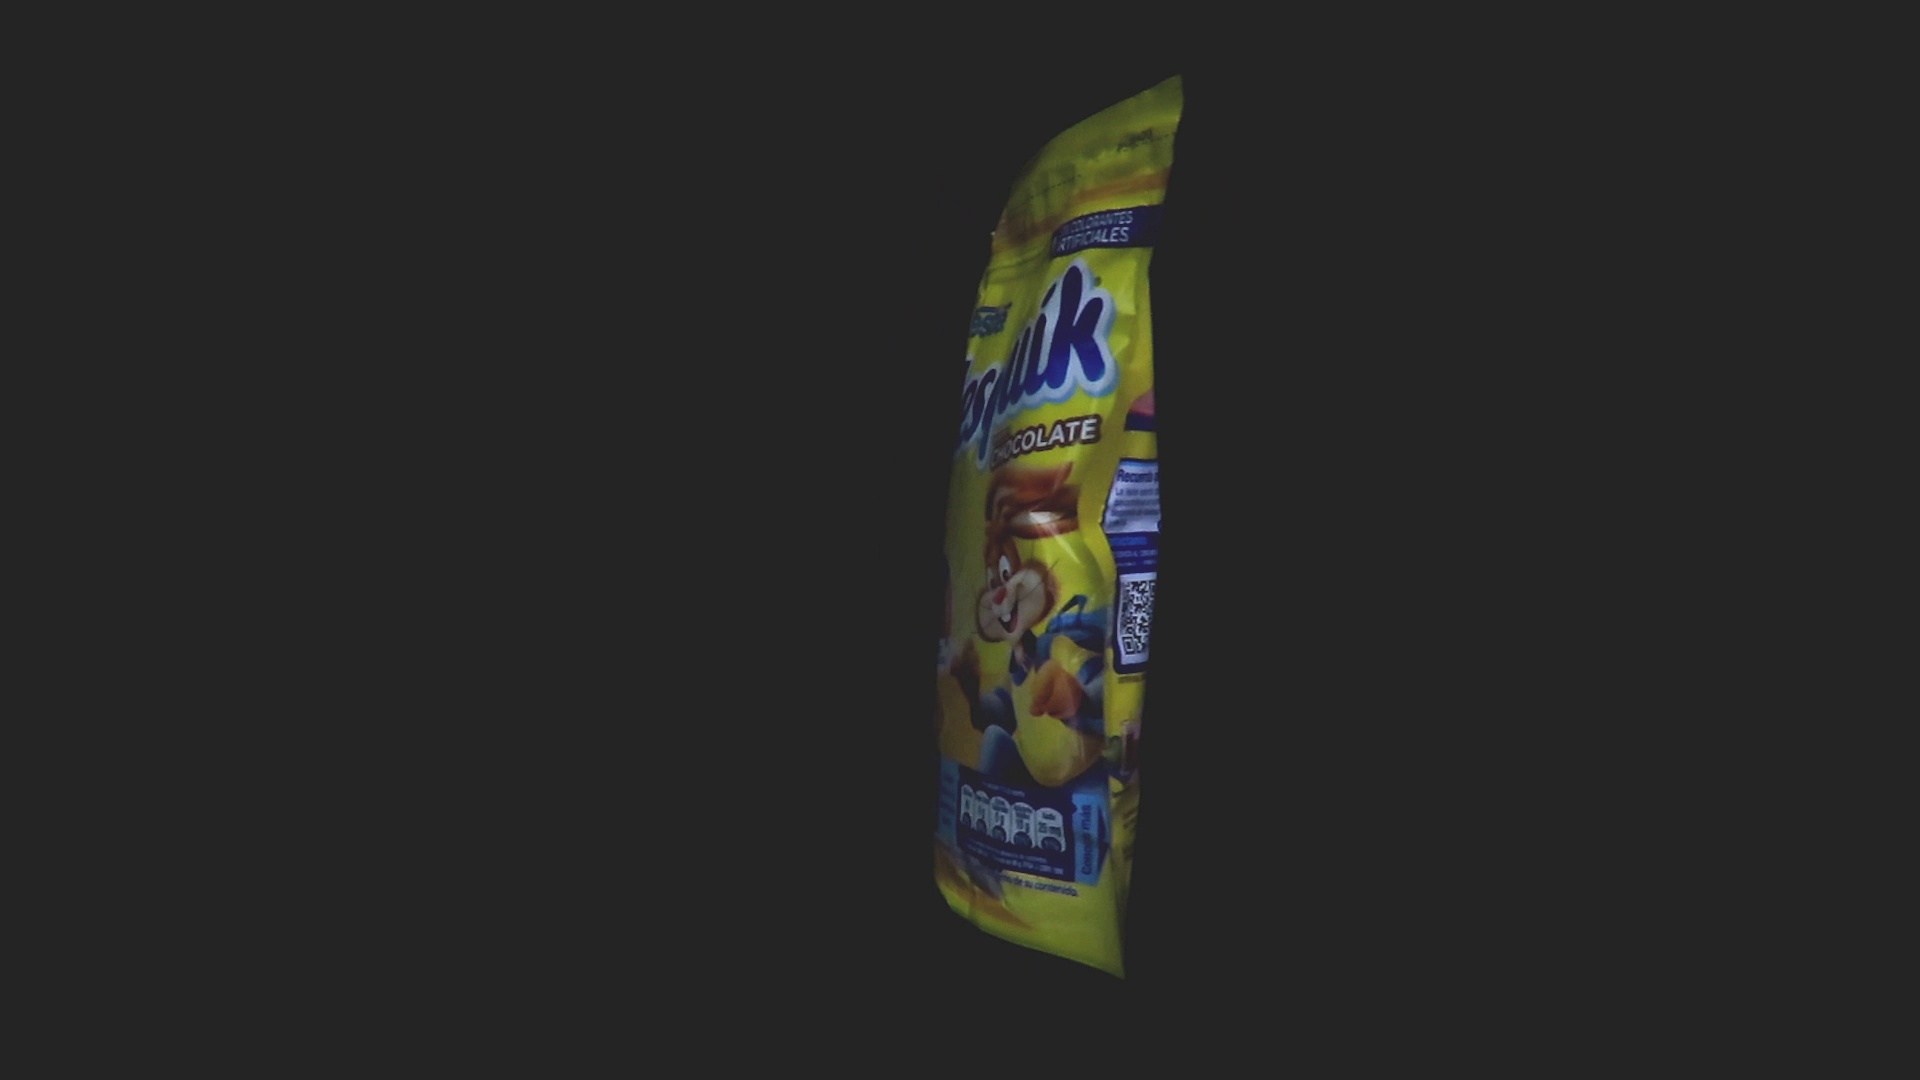COL0170303DYP20000: (928, 69, 1189, 986)
